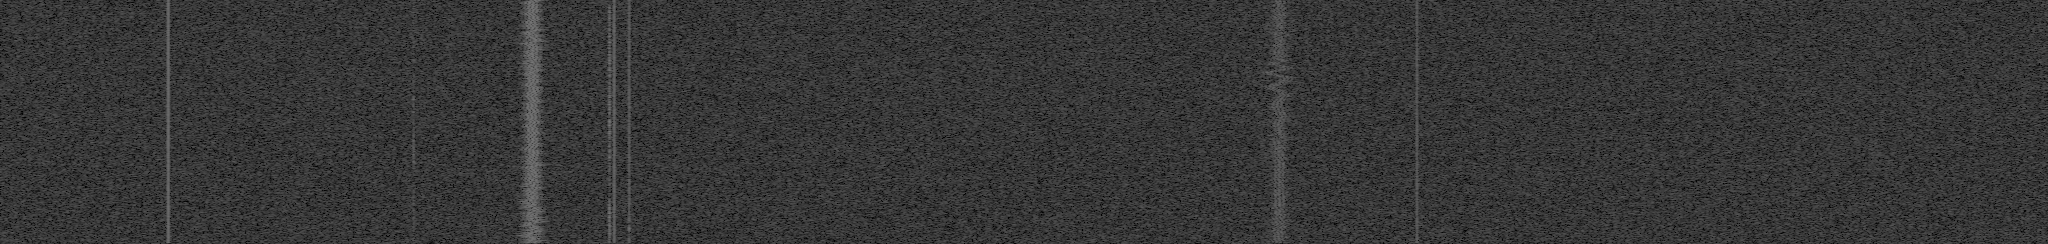wv_am: (626, 0, 632, 243)
wv_cw: (166, 0, 171, 243), (1415, 0, 1418, 243), (613, 0, 616, 243)
wv_usb: (607, 3, 613, 189), (607, 191, 613, 243), (411, 117, 415, 187), (411, 187, 415, 243), (411, 56, 415, 93), (411, 94, 415, 117), (411, 4, 415, 26), (411, 40, 415, 55), (411, 27, 415, 40)
wv_wbfm: (512, 0, 552, 243), (1259, 0, 1300, 243)
